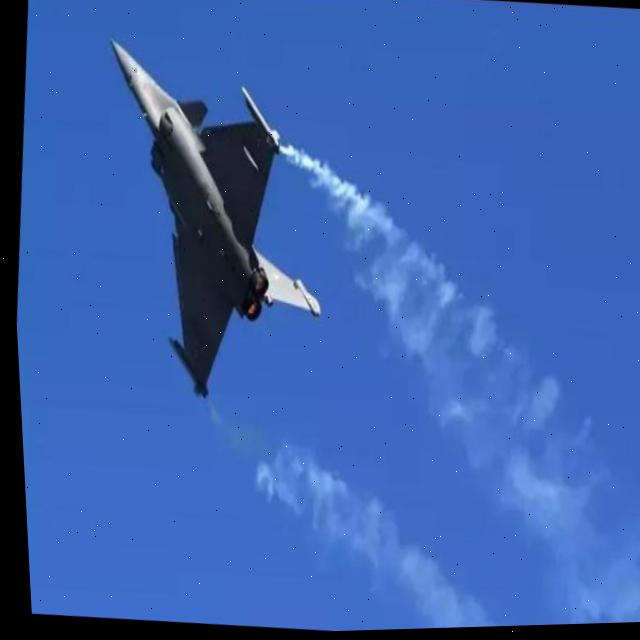missile: (154, 331, 210, 400), (234, 83, 285, 150)
